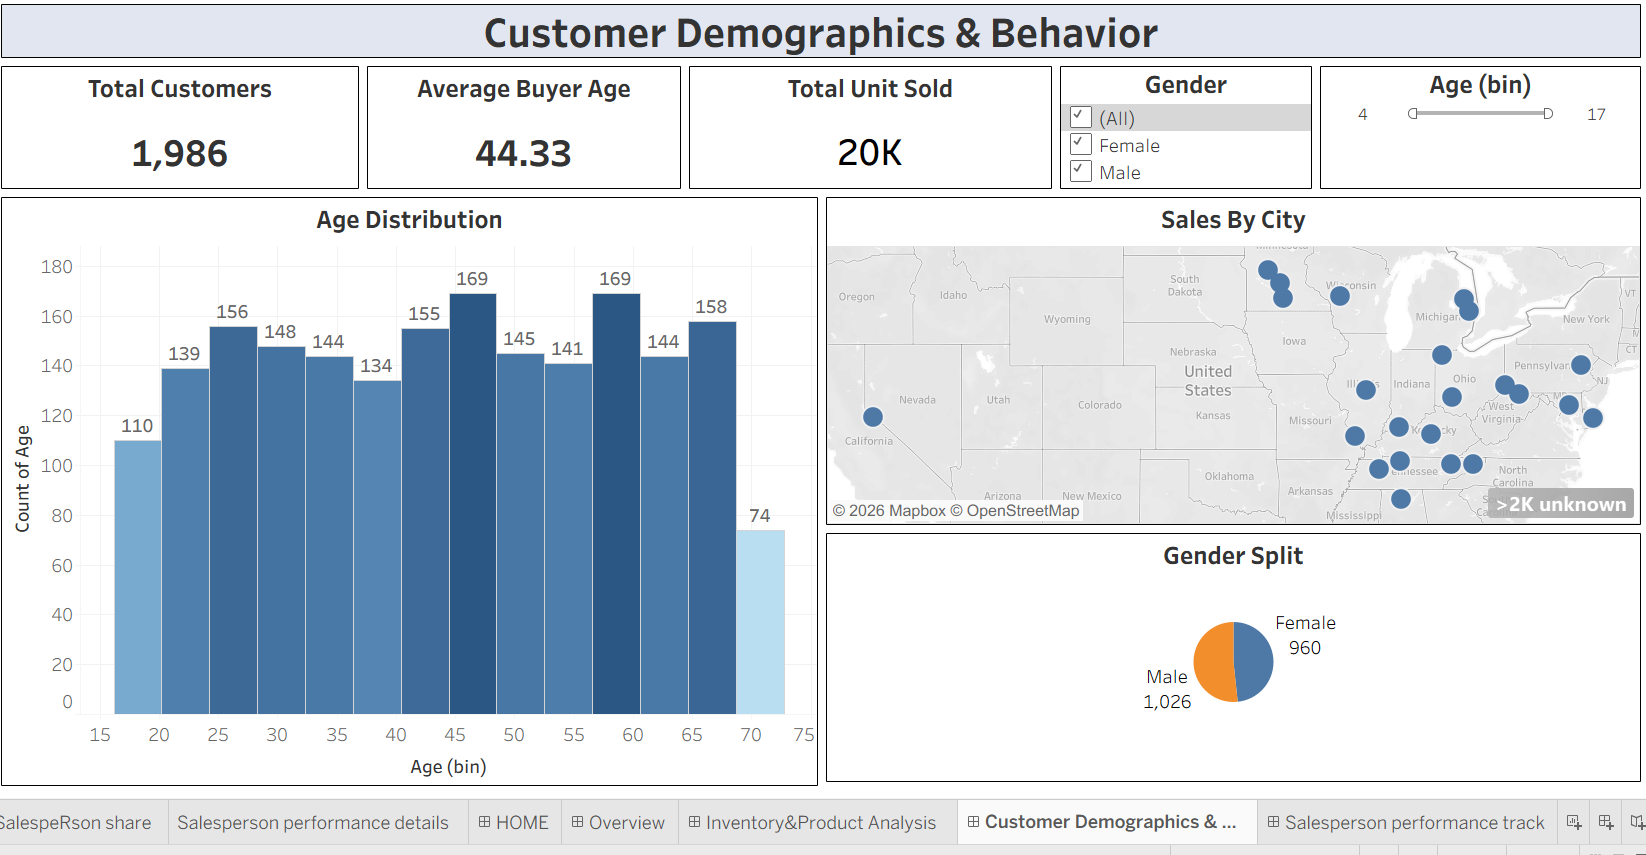

The page's visual inventory and layout, read from the dashboard file:
{"tool":"tableau","page":{"name":"Customer Demographics & Behavior","canvas":[1000,1000],"units":"permille","ordinal":0},"visuals":[{"type":"title","box":[4.8,9.9,990.4,76.9]},{"type":"worksheet","title":"Total customers","mark":"Automatic","box":[4.8,86.9,219.8,162.5]},{"type":"worksheet","title":"Averge Buyer Age","mark":"Automatic","box":[224.6,86.9,193.7,162.5]},{"type":"worksheet","title":"Total unit sold","mark":"Automatic","box":[418.3,86.9,223.2,162.5]},{"type":"filter","title":"Gender distribution","param":"[federated.1b1klsr0mw01x615c70iu1gsuma9].[none:Gender:nk]","box":[641.5,86.9,156.2,162.5]},{"type":"filter","title":"Age Distribution","param":"[federated.1b1klsr0mw01x615c70iu1gsuma9].[none:Age (bin):qk]","box":[797.7,86.9,197.5,162.5]},{"type":"worksheet","title":"Age Distribution","mark":"Automatic","rows":["Age"],"cols":["Age (bin)"],"box":[4.8,249.4,495.9,740.7]},{"type":"worksheet","title":"sales by city","mark":"Automatic","box":[500.7,249.4,494.5,416.9]},{"type":"worksheet","title":"Gender distribution","mark":"Pie","box":[500.7,666.3,494.5,318.9]}]}

Visuals, with their boxes on the dashboard's canvas, which has no fixed pixel size, in thousandths of its width and height (x1, y1, x2, y2). These are canvas units, not pixel positions in the 1646x855 screenshot, which may show the page scaled, cropped or inside an application window:
title: (left=5, top=10, right=995, bottom=87)
"Total customers" worksheet: (left=5, top=87, right=225, bottom=249)
"Averge Buyer Age" worksheet: (left=225, top=87, right=418, bottom=249)
"Total unit sold" worksheet: (left=418, top=87, right=642, bottom=249)
"Gender distribution" filter: (left=642, top=87, right=798, bottom=249)
"Age Distribution" filter: (left=798, top=87, right=995, bottom=249)
"Age Distribution" worksheet: (left=5, top=249, right=501, bottom=990)
"sales by city" worksheet: (left=501, top=249, right=995, bottom=666)
"Gender distribution" worksheet (Pie marks): (left=501, top=666, right=995, bottom=985)
